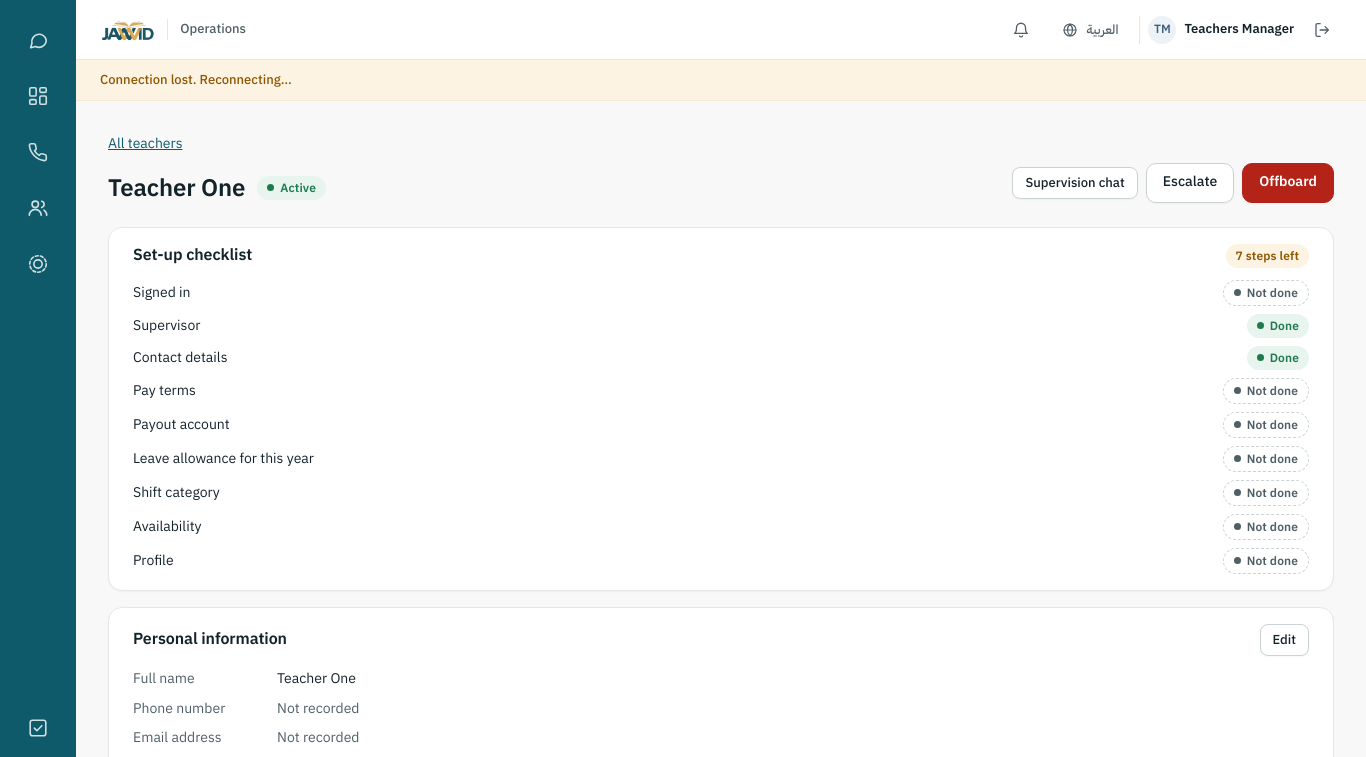
Test: Offboard › students still assigned: listed, and the teacher cannot be offboarded
The width and height of the screenshot is (1366, 757).
Click the button "Offboard" at point(1288, 183), box [1242,163,1334,203]
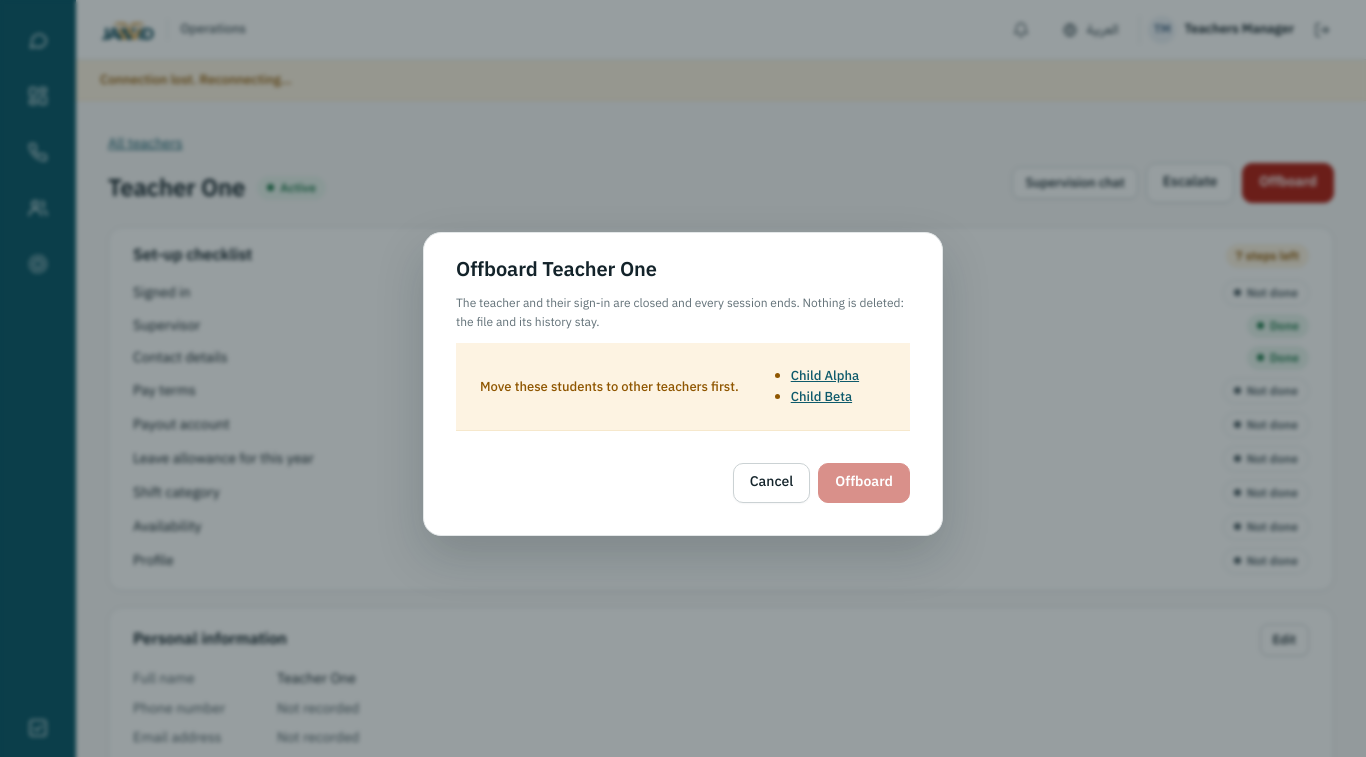
Expected: the text "Move these students to other teachers first." is shown, [480,376,739,397]
Expected: the button "Offboard" below "Child Beta" is disabled, [818,463,910,503]
